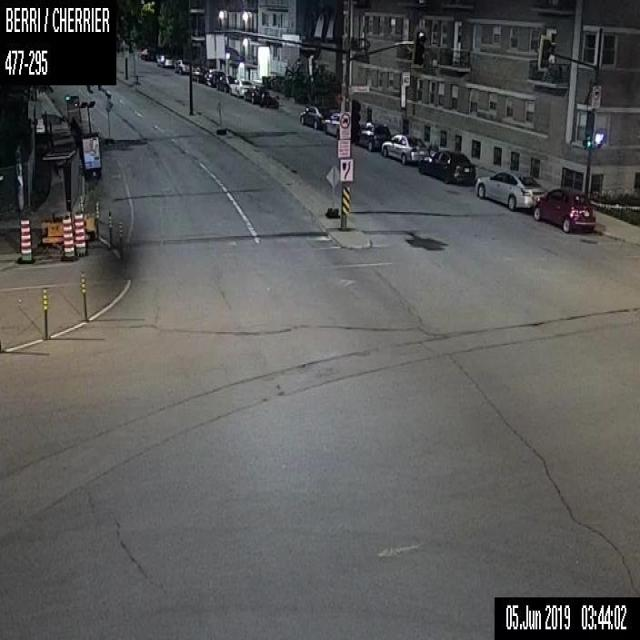construction: (43, 148, 90, 244), (325, 161, 338, 216), (213, 94, 226, 134), (103, 100, 113, 146), (74, 211, 84, 256), (20, 217, 30, 261), (62, 214, 72, 258), (81, 268, 86, 320), (43, 286, 47, 338), (118, 220, 123, 260), (108, 210, 112, 247), (95, 201, 98, 237), (80, 198, 83, 210)
vehicle: (475, 170, 546, 209), (534, 187, 595, 232), (418, 149, 475, 184), (381, 133, 427, 163), (354, 121, 390, 151), (298, 105, 332, 129), (243, 84, 268, 103), (228, 78, 254, 96), (203, 68, 224, 86), (259, 90, 279, 108), (324, 112, 339, 136), (215, 74, 235, 91), (191, 66, 206, 82), (156, 54, 174, 66), (174, 59, 189, 73), (140, 48, 156, 59)
